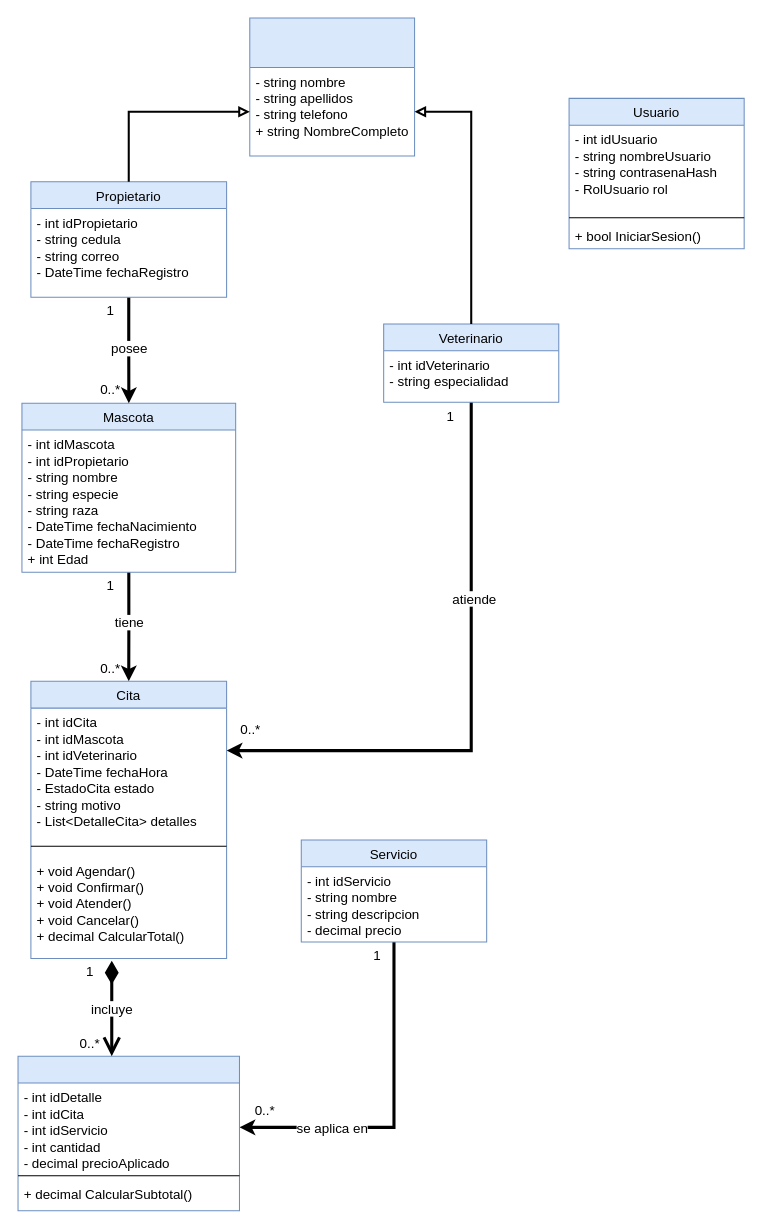
Image size: 762x1229. Some labels were removed from this diagram. Here are the shapes that lost their labels. From the top down, the box of each, then its label:
(249, 17, 415, 156): abstract Persona
(17, 1055, 239, 1211): DetalleCita
